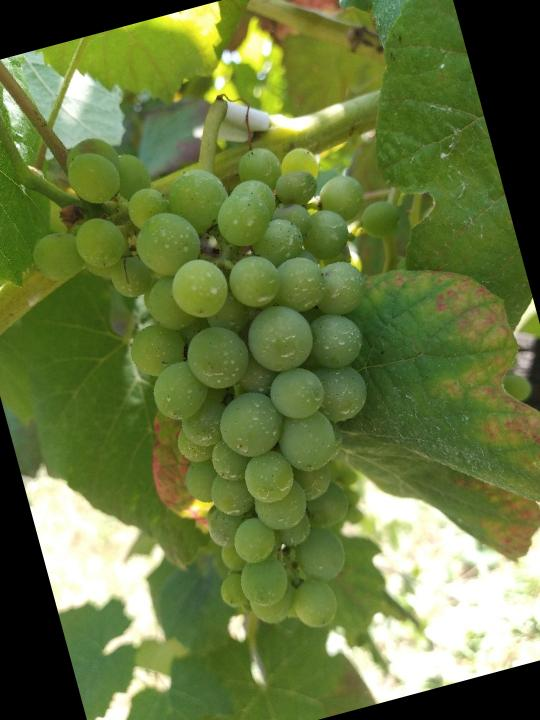grape: (0, 64, 496, 683)
